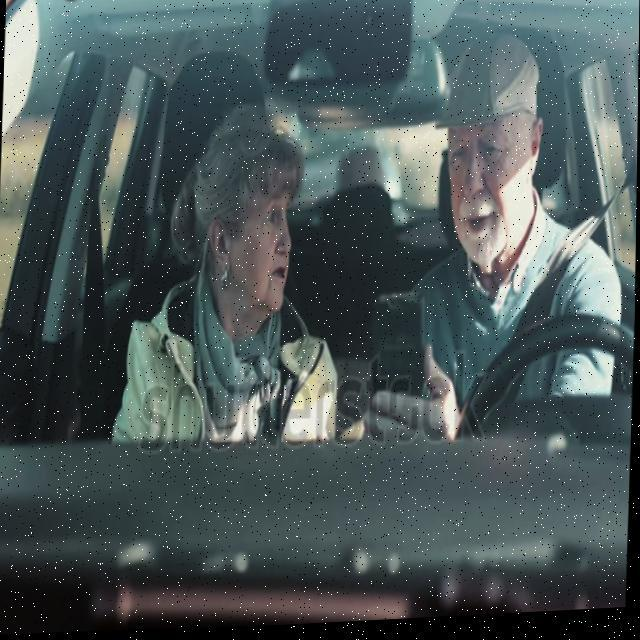PhoneCall: (368, 295, 433, 446)
